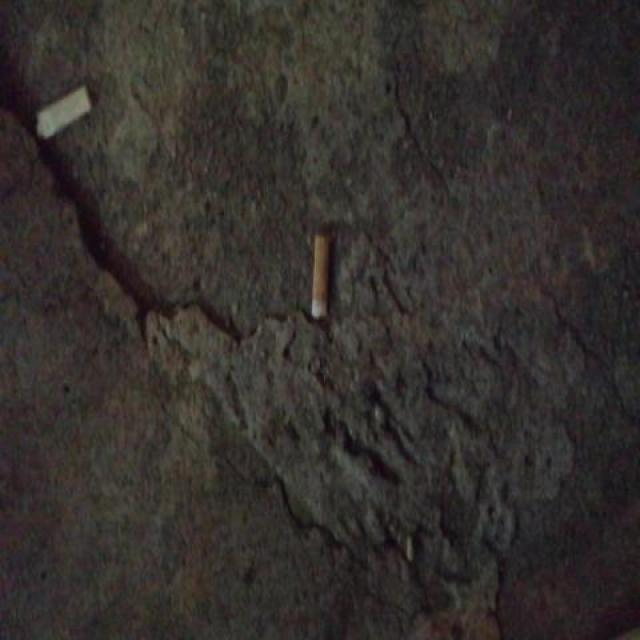non-organic waste: (32, 78, 96, 143), (308, 228, 340, 324)
